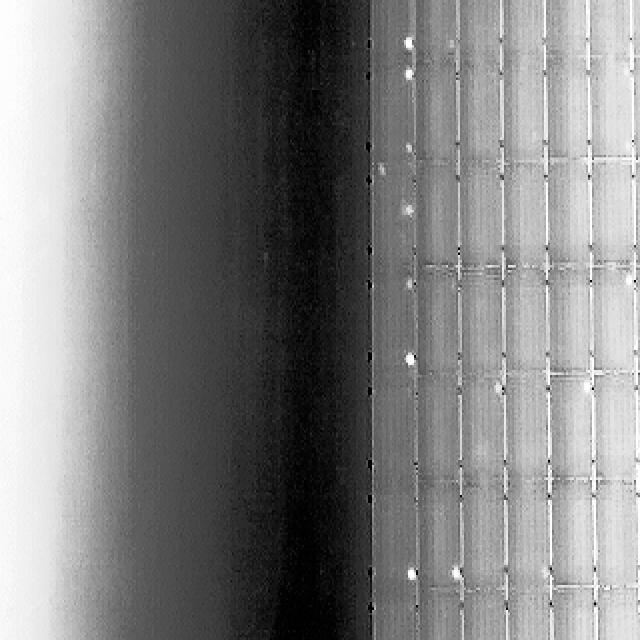Hotspots: (401, 348, 417, 371), (618, 61, 634, 82), (492, 379, 507, 399), (540, 561, 552, 585), (405, 566, 418, 588), (402, 64, 417, 83), (622, 136, 636, 156), (581, 377, 593, 400), (451, 564, 464, 584), (402, 32, 414, 52), (444, 36, 458, 52), (401, 200, 414, 217), (623, 272, 634, 292), (404, 272, 413, 290), (378, 165, 388, 180), (404, 139, 413, 155)
PV-modules: (502, 479, 553, 594), (498, 49, 550, 157), (501, 266, 552, 376), (369, 163, 417, 278), (460, 482, 509, 594), (415, 264, 463, 378), (371, 486, 419, 600), (414, 374, 464, 483), (415, 52, 462, 166), (459, 159, 506, 272), (505, 371, 552, 484), (458, 270, 507, 378), (459, 373, 507, 483), (417, 482, 464, 594), (458, 50, 503, 166), (547, 158, 593, 270), (548, 262, 593, 376), (416, 161, 461, 274), (371, 52, 416, 164), (370, 376, 417, 483), (371, 269, 417, 378), (595, 372, 640, 483), (544, 51, 590, 158), (551, 476, 595, 587), (588, 49, 634, 155), (596, 480, 640, 590), (550, 376, 595, 482), (502, 162, 546, 270), (595, 266, 636, 376), (594, 160, 636, 266), (456, 0, 505, 56), (586, 0, 636, 54), (498, 0, 549, 52), (371, 0, 417, 57), (542, 0, 591, 52), (504, 590, 554, 640), (414, 0, 461, 53), (550, 585, 594, 640), (416, 592, 466, 640), (370, 592, 418, 640), (462, 592, 510, 640), (598, 587, 640, 640), (630, 47, 640, 155), (630, 160, 640, 265), (632, 263, 640, 375), (630, 0, 640, 50), (638, 472, 640, 582), (638, 372, 640, 478)
